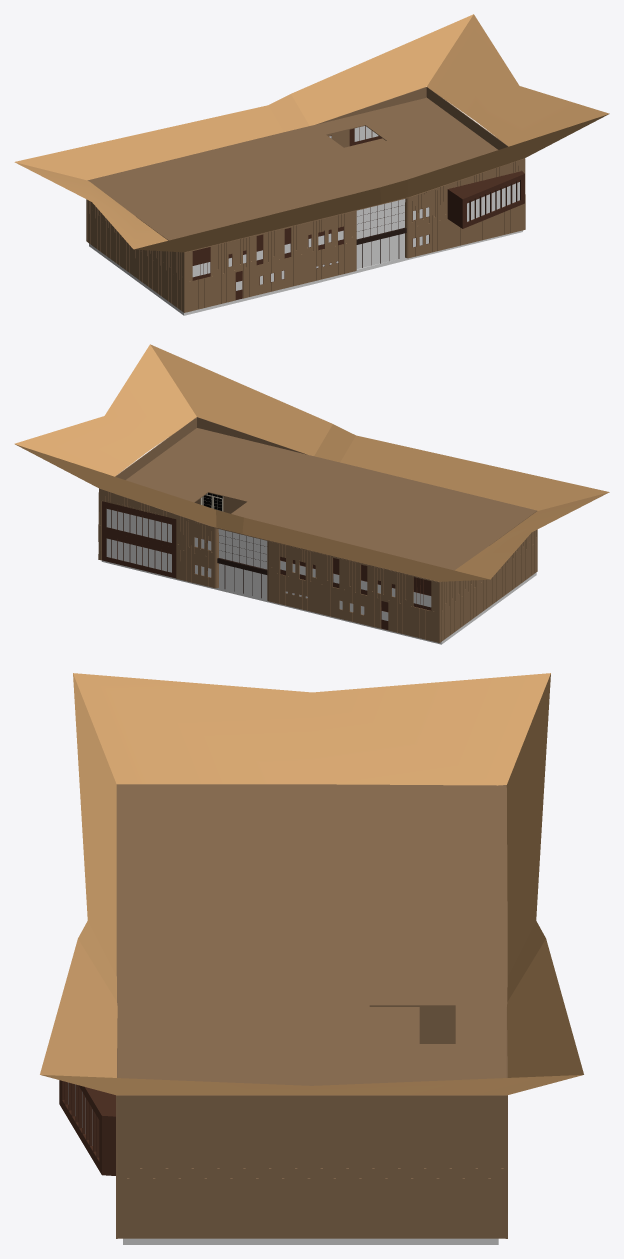
The model's file is house (1).fbx.
The picture shows the model from 3 angles, top to bottom: view 1: azimuth 30°, elevation 25°; view 2: azimuth 150°, elevation 25°; view 3: azimuth 270°, elevation 25°; orthographic projection. The views are drawn at different scales.
Parts seen in each view (by area): view 1: building, walls; view 2: building, walls; view 3: building, walls.
Part boxes in pixels (x1,y1,x2,y2): building: (14, 14, 609, 312); walls: (89, 138, 522, 315); building: (14, 344, 609, 642); walls: (101, 496, 536, 644); building: (40, 673, 583, 1238); walls: (123, 1007, 498, 1244).
Size of the model in its own units: 365 by 87.49 by 184.
